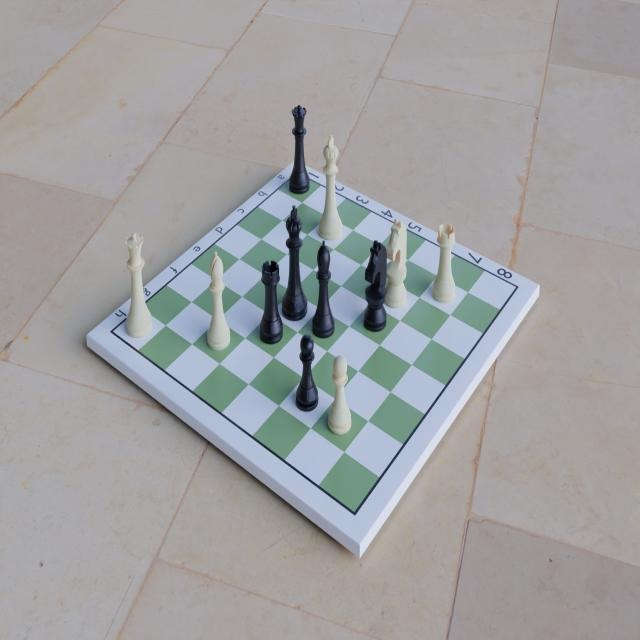black-bishop: (312, 238, 336, 341)
black-king: (278, 206, 309, 322)
black-knight: (362, 239, 388, 333)
black-pawn: (293, 333, 319, 415)
black-queen: (287, 102, 313, 195)
black-rook: (258, 258, 284, 346)
white-bishop: (205, 248, 231, 352)
white-king: (317, 131, 345, 240)
white-knight: (381, 218, 408, 310)
white-pawn: (327, 352, 353, 440)
white-queen: (123, 229, 153, 340)
white-rook: (430, 218, 458, 306)
